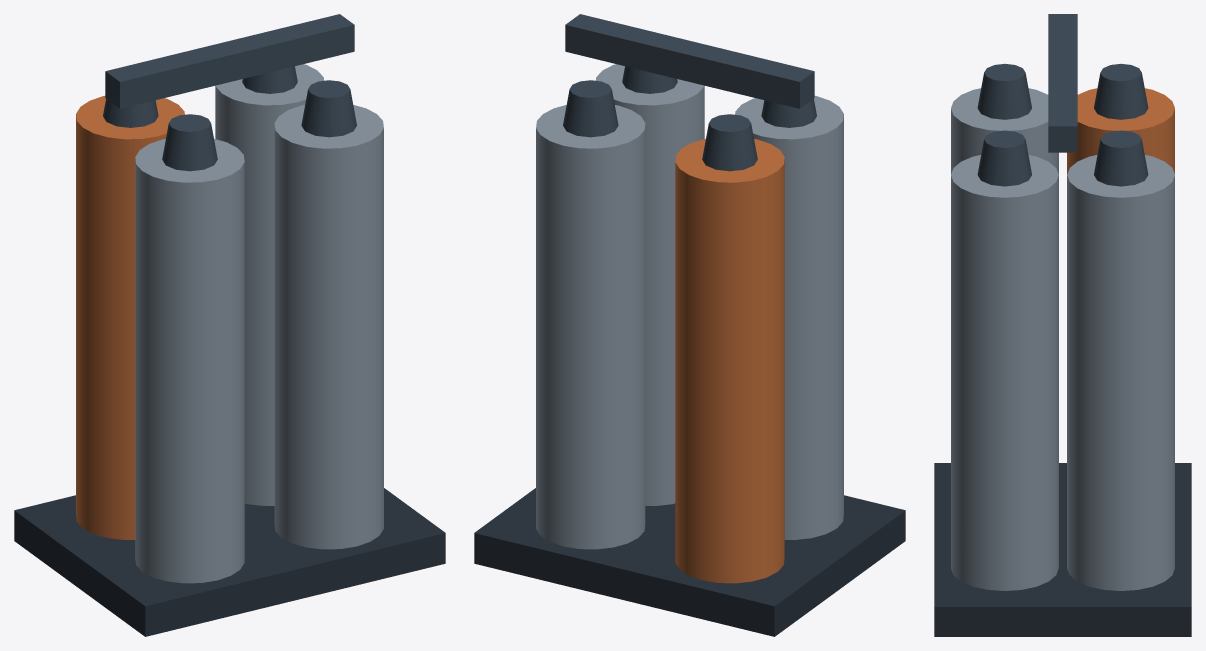
The model's file is gas.glb.
The picture shows the model from 3 angles, left to right: view 1: azimuth 30°, elevation 25°; view 2: azimuth 150°, elevation 25°; view 3: azimuth 270°, elevation 25°; orthographic projection.
Visible parts, largest first — view 1: merged-gasSteel, merged-gasOrange, merged-deviceDark, merged-deviceMid; view 2: merged-gasSteel, merged-gasOrange, merged-deviceDark, merged-deviceMid; view 3: merged-gasSteel, merged-deviceDark, merged-deviceMid, merged-gasOrange.
Part boxes in pixels (x1,y1,x2,y2): merged-gasSteel: (135, 64, 383, 583); merged-gasOrange: (76, 96, 184, 539); merged-deviceDark: (14, 488, 445, 636); merged-deviceMid: (103, 14, 356, 171); merged-gasSteel: (536, 64, 843, 549); merged-gasOrange: (675, 139, 784, 583); merged-deviceDark: (474, 488, 905, 636); merged-deviceMid: (563, 14, 816, 171); merged-gasSteel: (951, 88, 1174, 590); merged-deviceDark: (934, 463, 1191, 636); merged-deviceMid: (977, 14, 1148, 186); merged-gasOrange: (1067, 88, 1174, 174).
Size of the model in its own units: 0.82 by 1.32 by 0.62.
